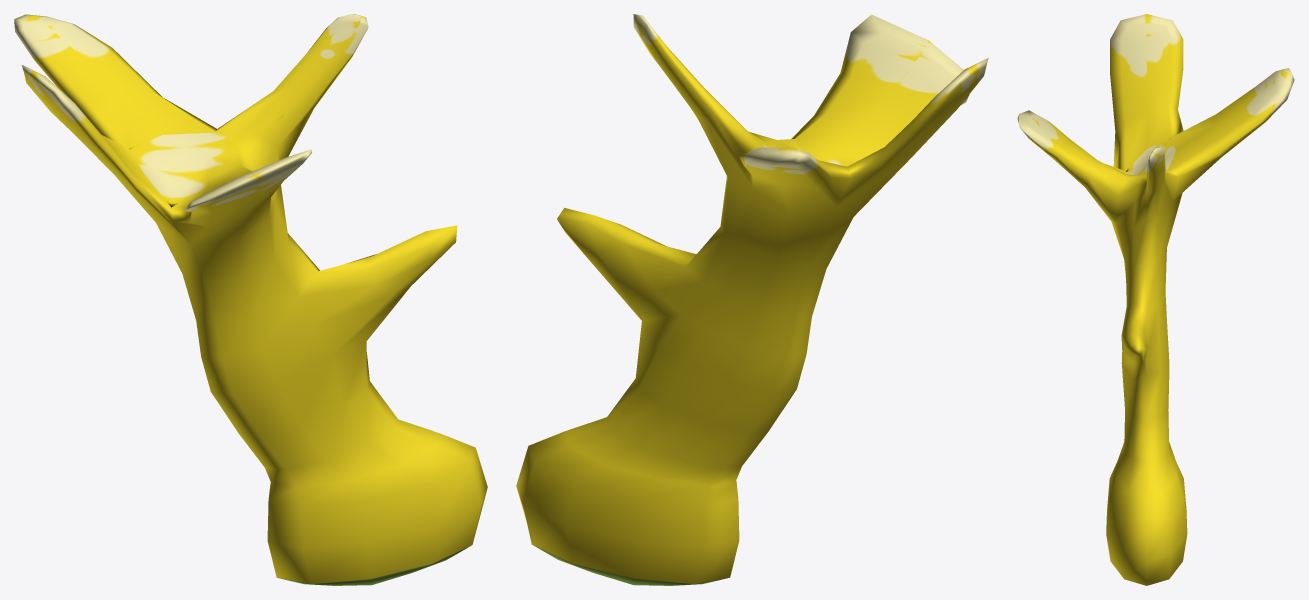
File: Coral02.fbx
3 views of the same model, side by side, from view 1: azimuth 30°, elevation 25°; view 2: azimuth 150°, elevation 25°; view 3: azimuth 270°, elevation 25° (orthographic). The views are drawn at different scales.
Visible parts, largest first — view 1: Coral02; view 2: Coral02; view 3: Coral02.
Boxes of the visible parts, bbox=[...] form: Coral02: bbox=[14, 14, 487, 585]; Coral02: bbox=[516, 14, 988, 585]; Coral02: bbox=[1017, 14, 1294, 585].
Size of the model in its own units: 2.39 by 2.9 by 1.72.
